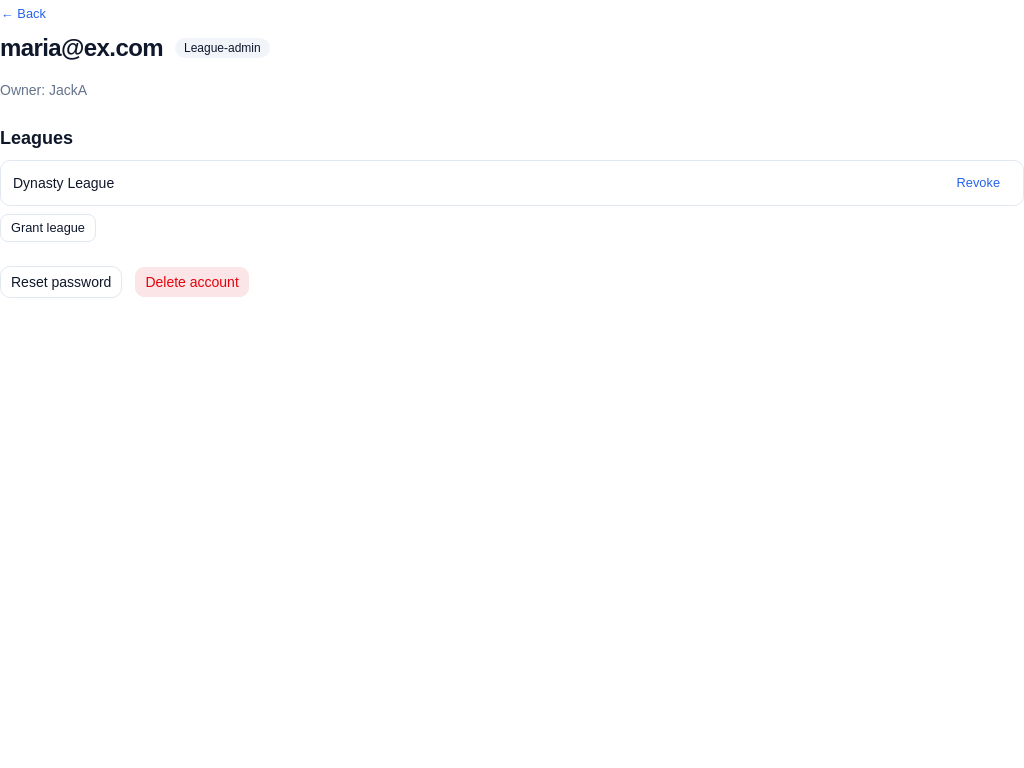
Test: a failed password reset shows the error message inline and keeps the dialog open
The width and height of the screenshot is (1024, 768).
Click the button "Reset password" at (61, 282), box [0,266,122,298]
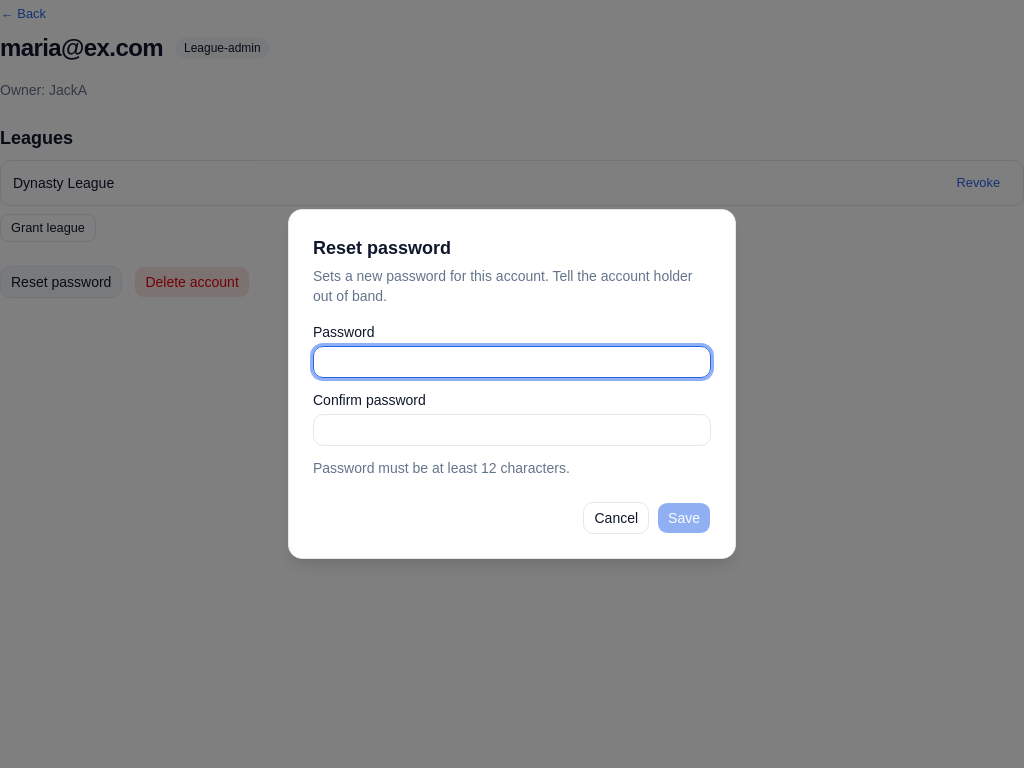
Type "longenoughpw123" into the password field labelled "Password" at (512, 362), box [313,346,711,378]
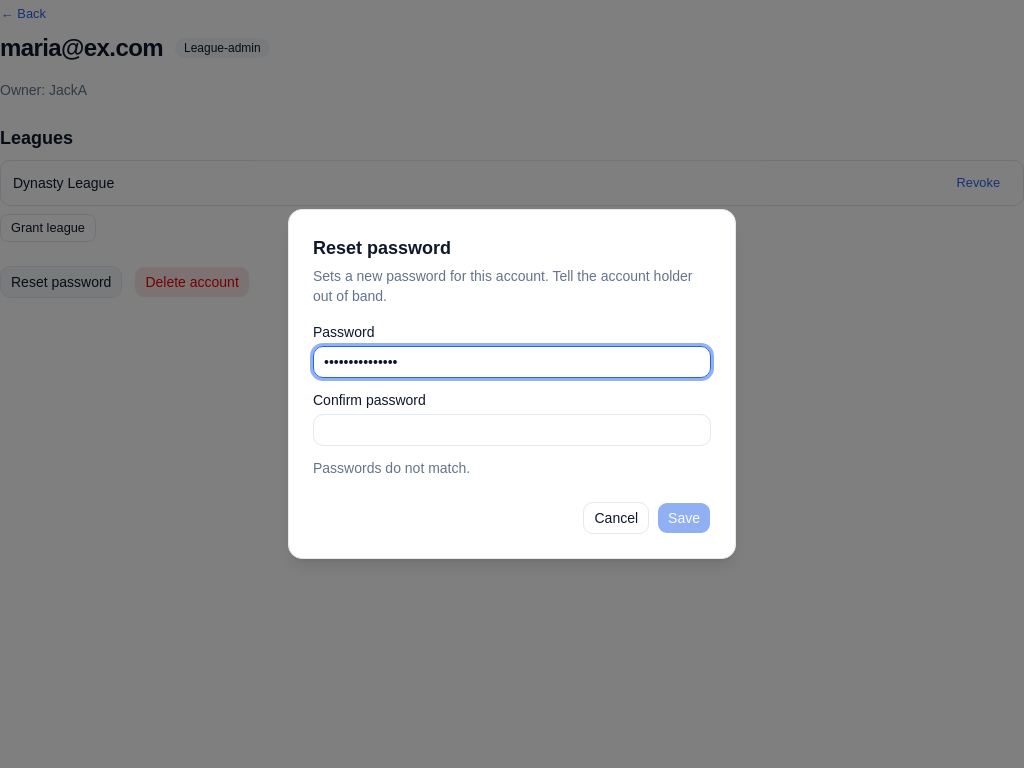
Type "longenoughpw123" into the password field labelled "Confirm password" at (512, 430), box [313,414,711,446]
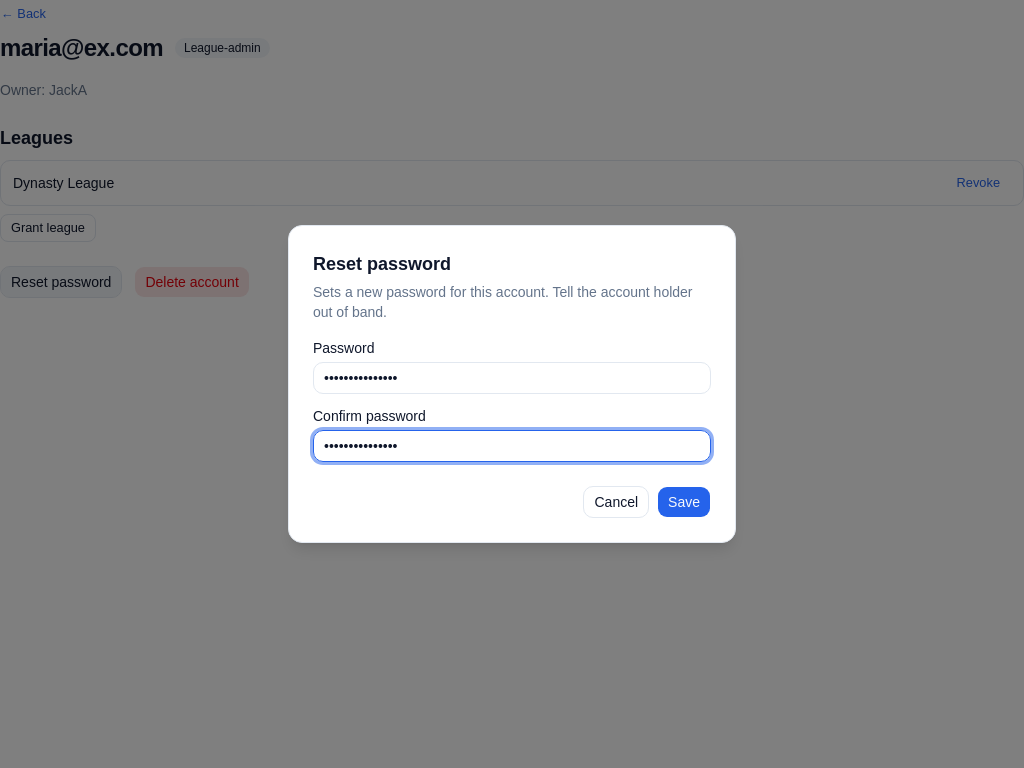
Click the button "Save" at (684, 502), box [657,486,711,518]
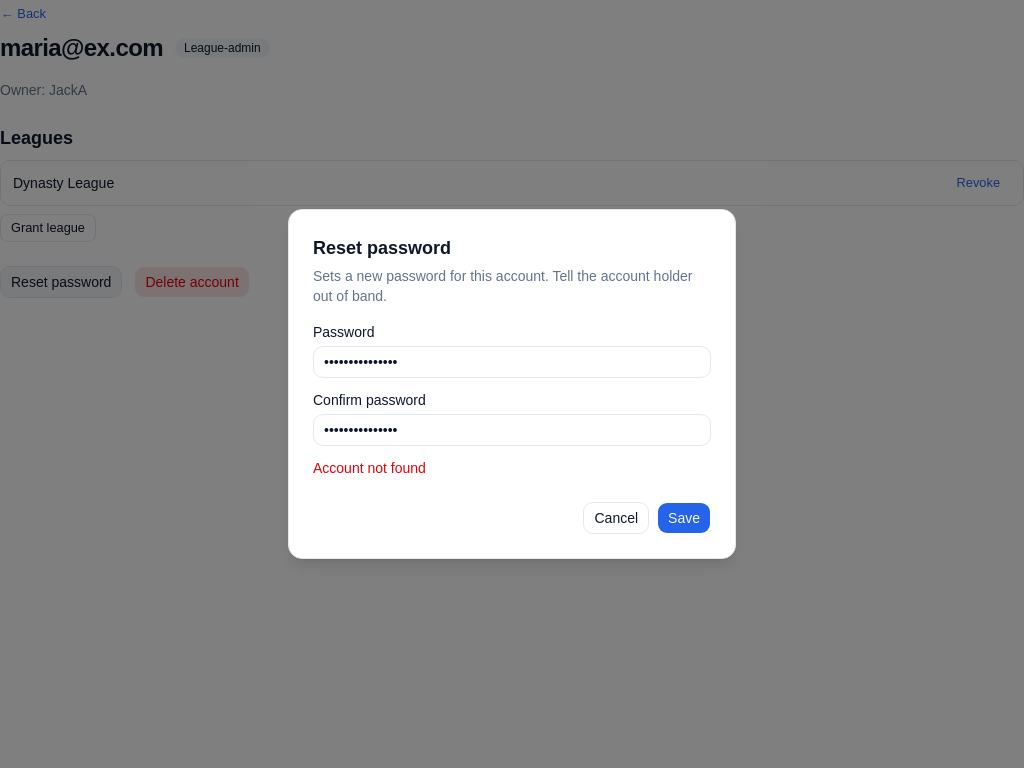
expect the dialog is shown: met, box [288,209,736,559]
expect the text "Account not found" is shown: met, box [313,460,426,476]
